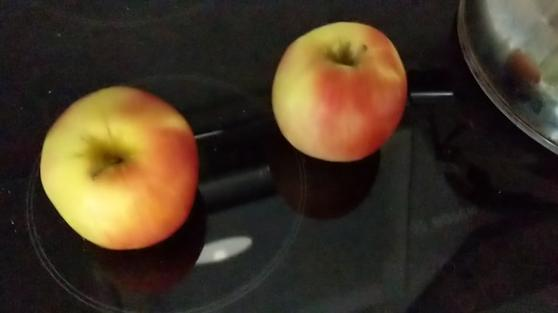apple: (40, 81, 200, 251), (271, 19, 406, 162)
